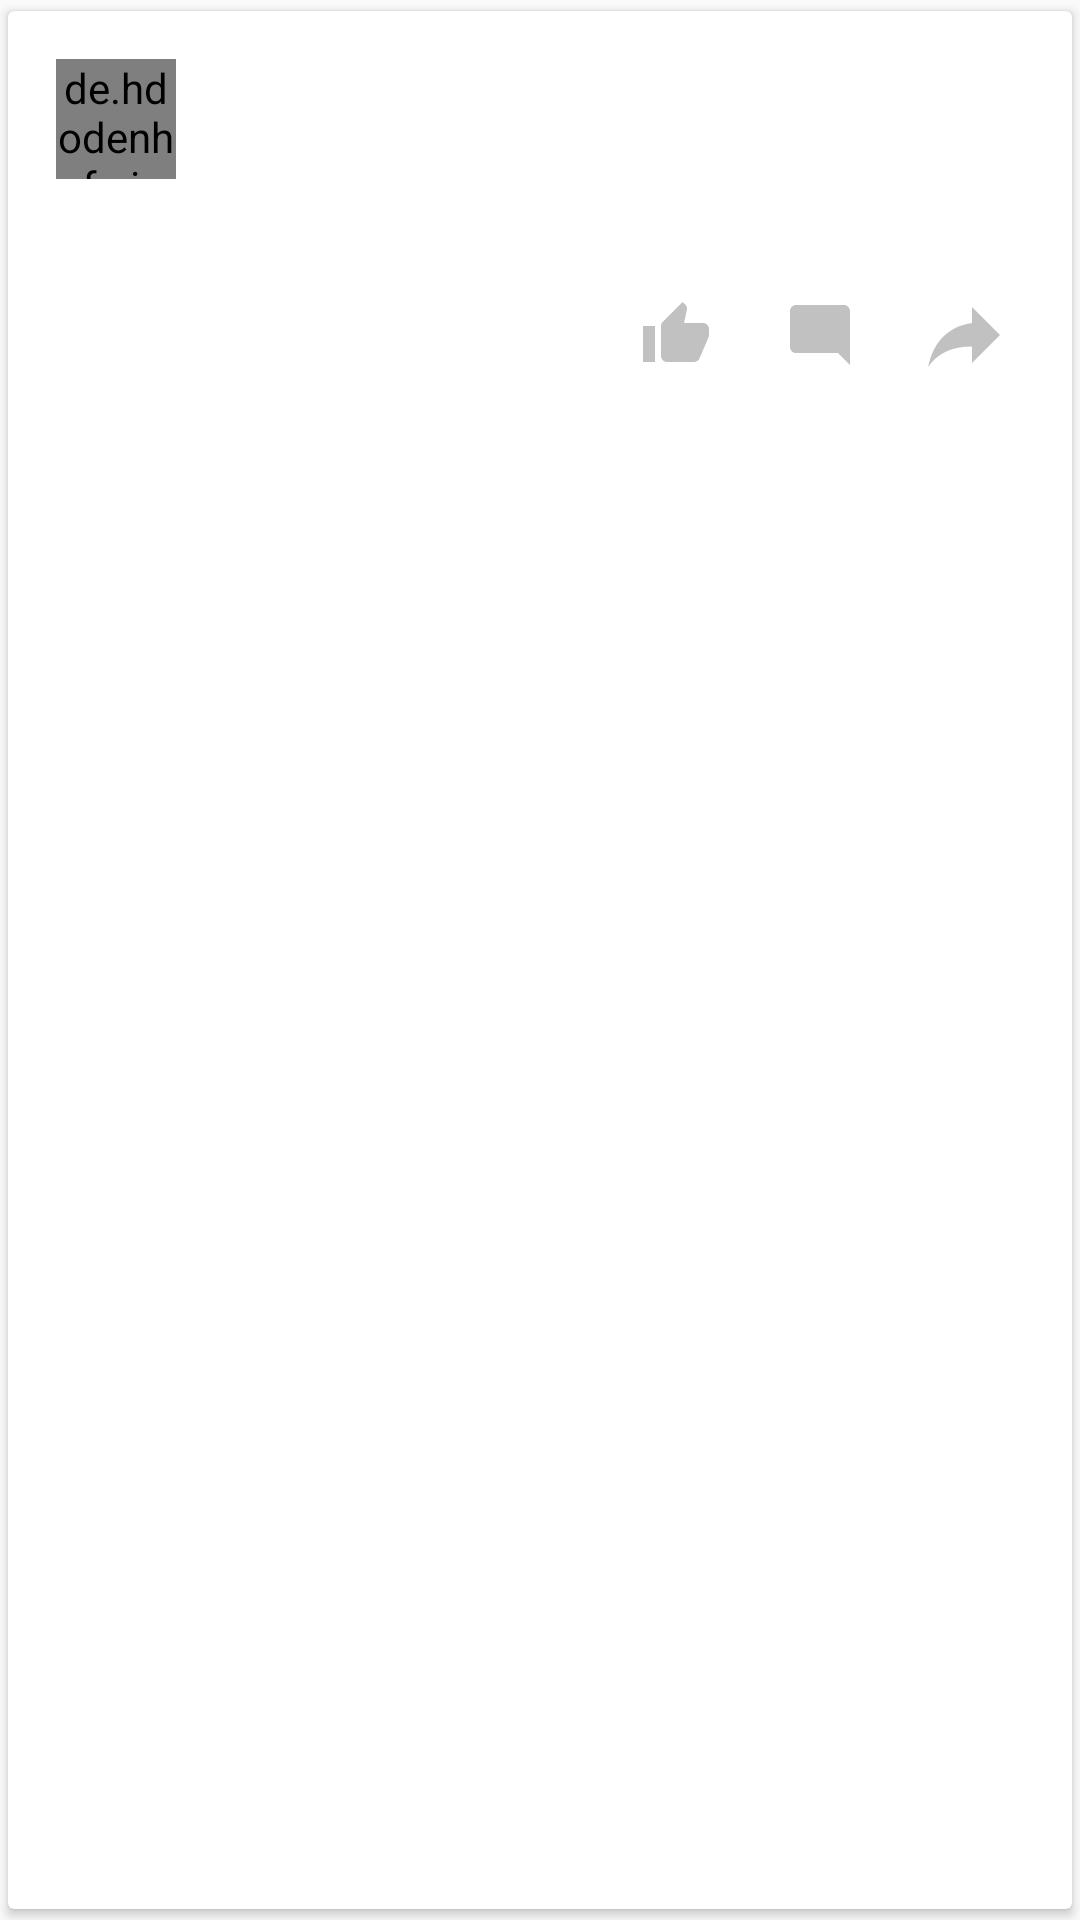

Named icons in this screenshot (1080x1920) and their bounding boxes, (x1, y1, x2, y2):
comment: (790, 305, 850, 365)
